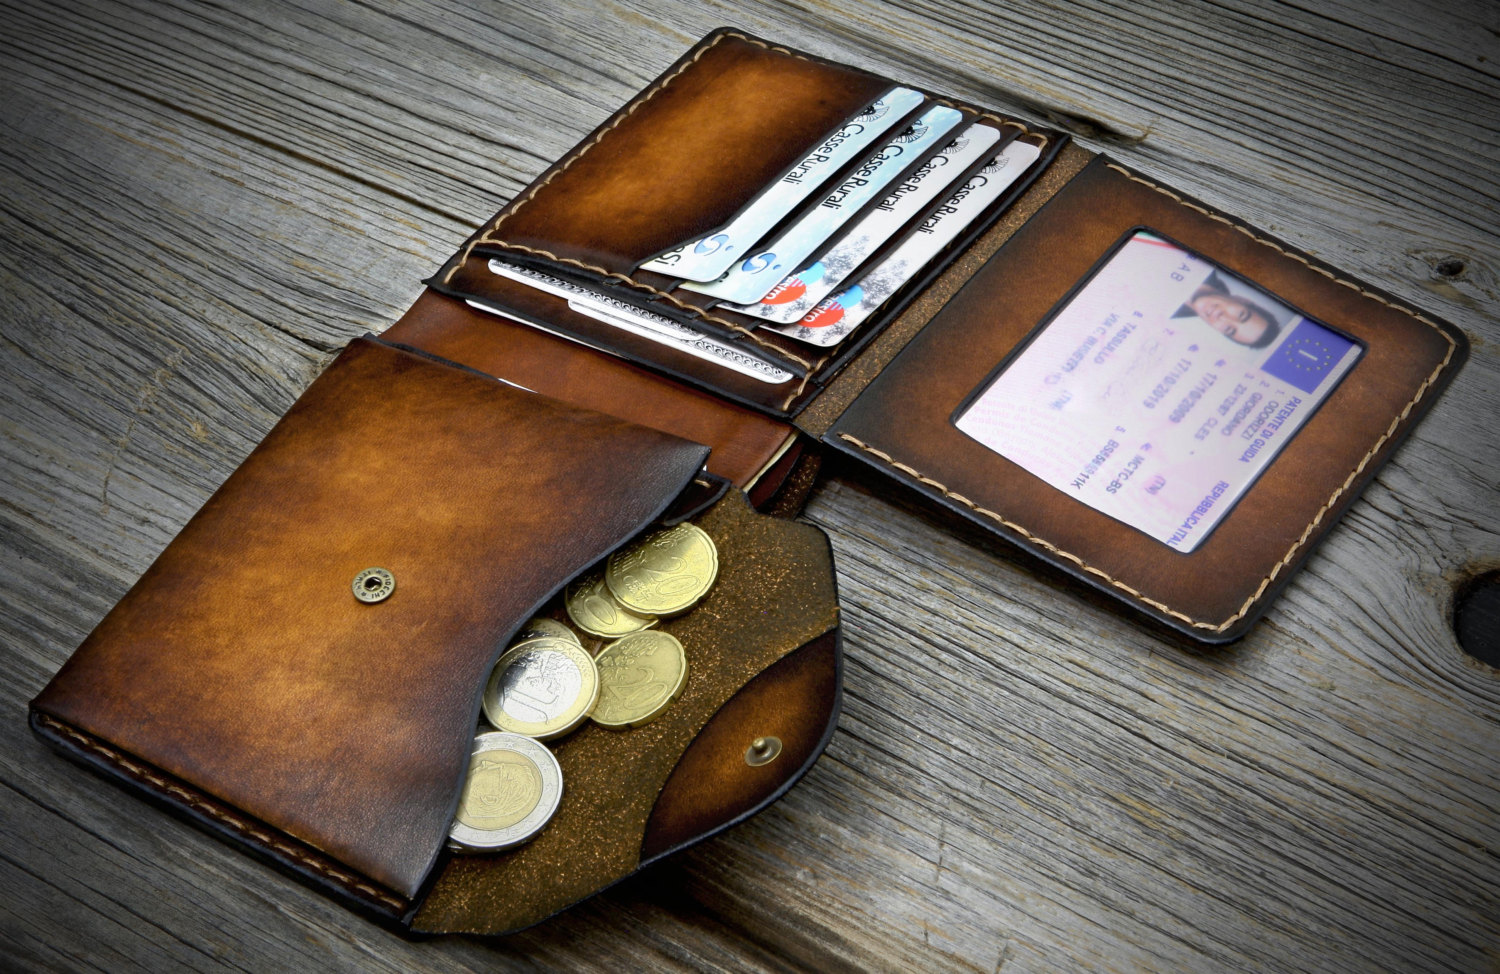monedero: (26, 20, 1481, 950)
